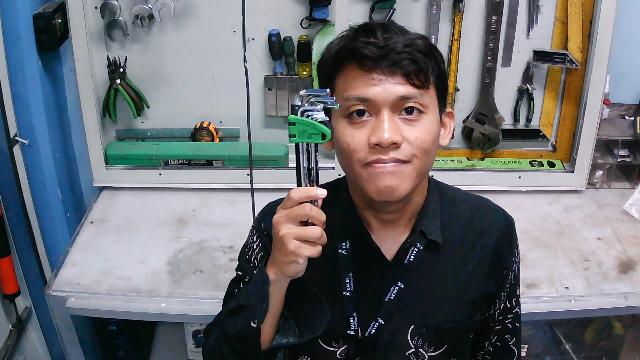kunci_l: (283, 85, 342, 249)
